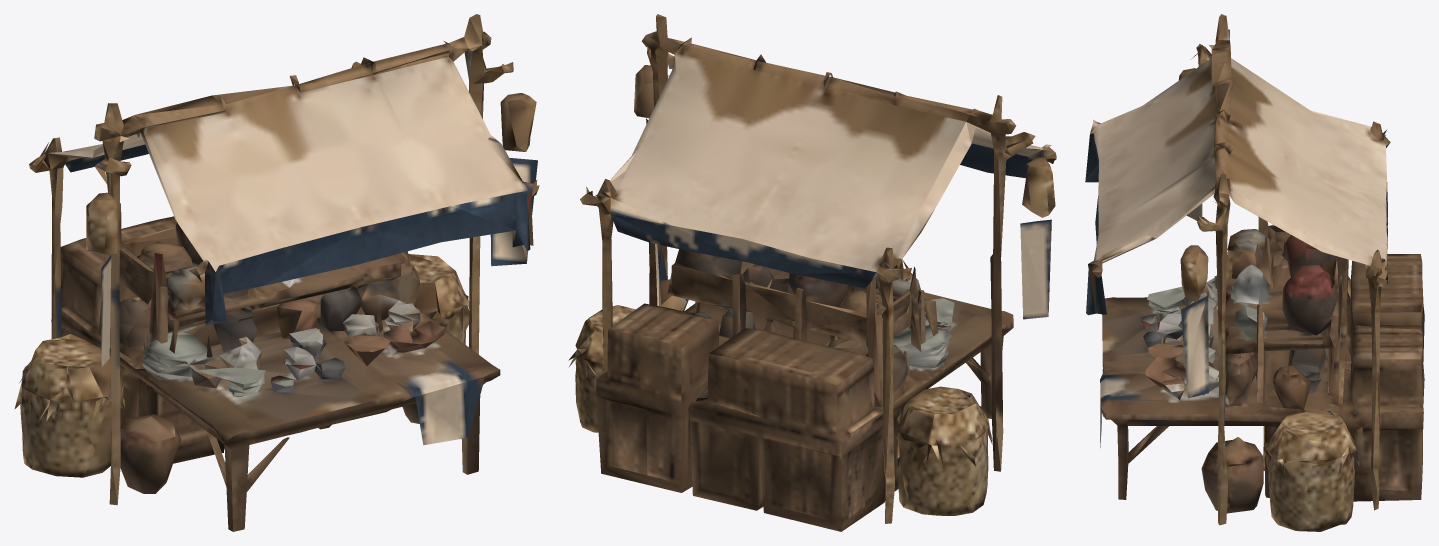
File: 09_Pottery_Ceramics_Stall_LOD2.fbx
3 renders of one model, left to right at view 1: azimuth 30°, elevation 25°; view 2: azimuth 150°, elevation 25°; view 3: azimuth 270°, elevation 25°, orthographic. The views are drawn at different scales.
Parts seen in each view (by area): view 1: 09_Pottery_Ceramics_Stall_L2; view 2: 09_Pottery_Ceramics_Stall_L2; view 3: 09_Pottery_Ceramics_Stall_L2.
Boxes of the visible parts, x1,y1,x2,y2 form: 09_Pottery_Ceramics_Stall_L2: (14,14,539,531); 09_Pottery_Ceramics_Stall_L2: (568,14,1056,531); 09_Pottery_Ceramics_Stall_L2: (1085,14,1424,531).
Size of the model in its own units: 2.9 by 2.5 by 2.17.
